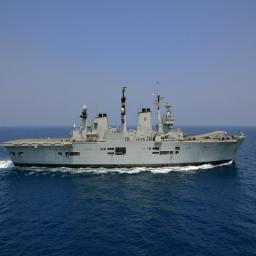Portanaves: (2, 81, 249, 180)
